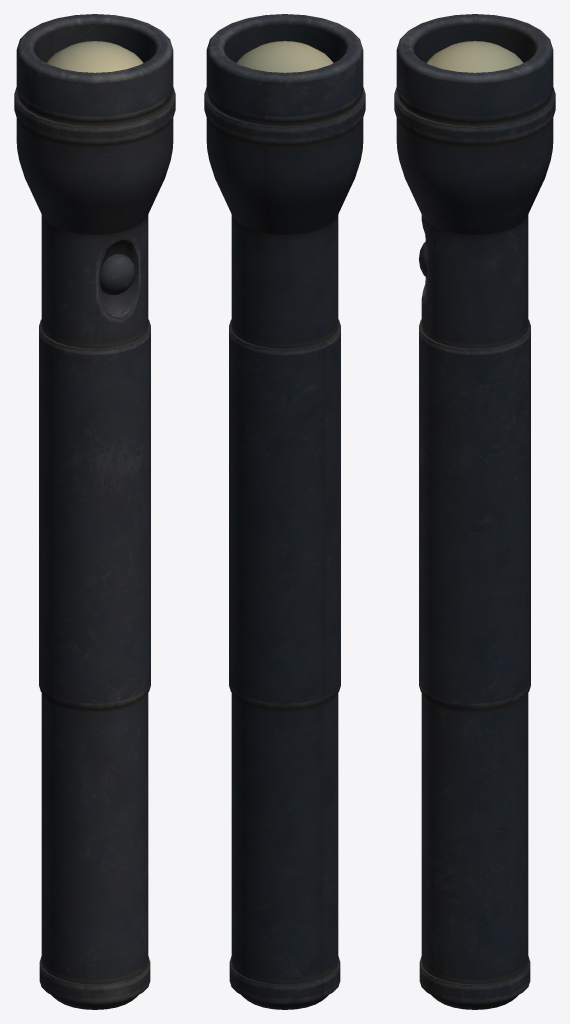
Rendered from flashlight.obj.
3 views of the same model, side by side, from view 1: azimuth 30°, elevation 25°; view 2: azimuth 150°, elevation 25°; view 3: azimuth 270°, elevation 25° (orthographic).
Visible parts, largest first — view 1: flashlight_Mesh; view 2: flashlight_Mesh; view 3: flashlight_Mesh.
Boxes of the visible parts, x1,y1,x2,y2 form: flashlight_Mesh: (14, 14, 175, 1009); flashlight_Mesh: (204, 14, 365, 1009); flashlight_Mesh: (394, 14, 555, 1009).
Bounding box in the file's own units: 0.5449 × 3.54 × 0.5449.
